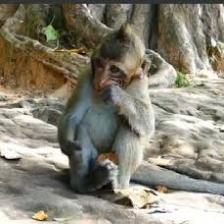monkey: (43, 21, 180, 212)
